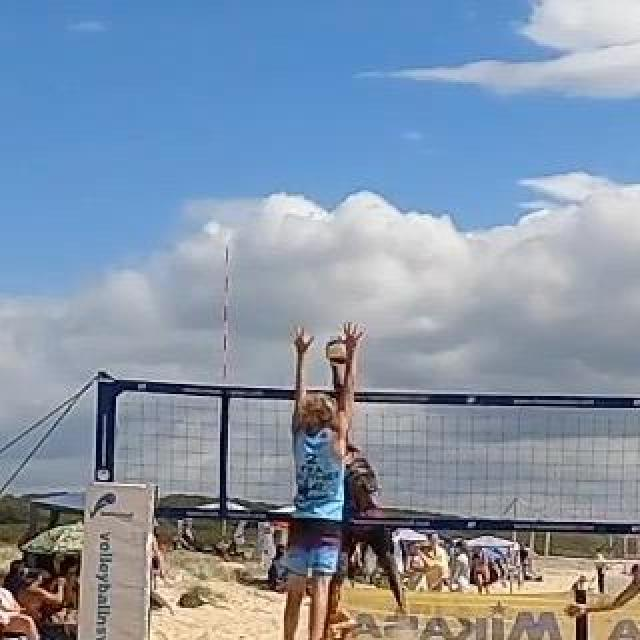volleyball: (325, 336, 353, 366)
